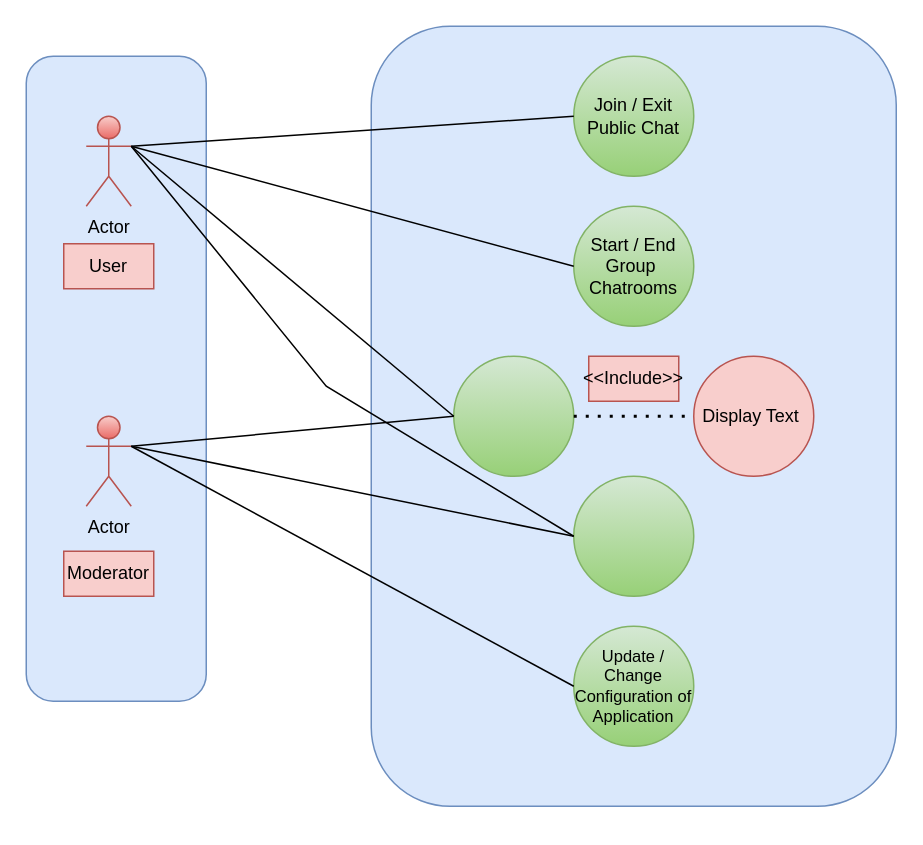
Image size: 923x845. Some labels were removed from this diagram. Here are the shapes that lost their labels. From the top down, the centre of each, then its label:
At (x=513, y=415): "Send / Receive Messages".
At (x=633, y=535): "Hide/ Mute Texts".
